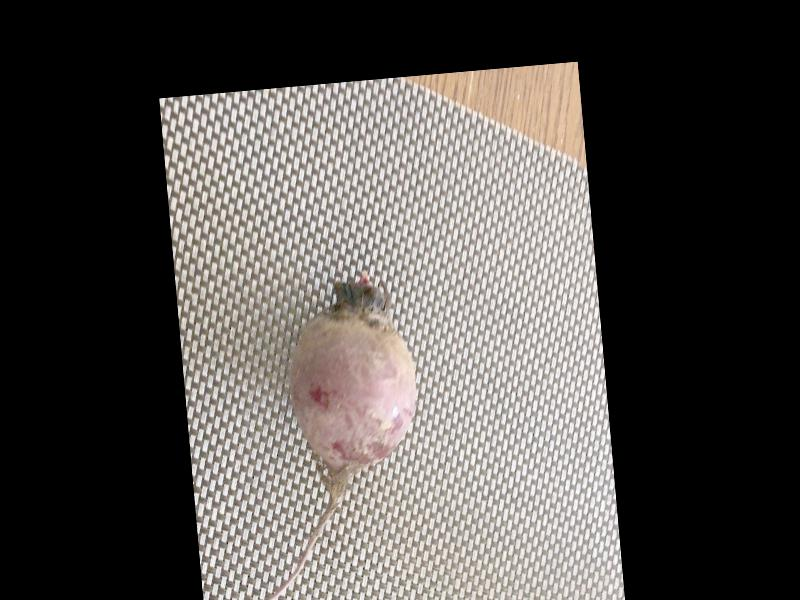Beet: (229, 267, 433, 600)
